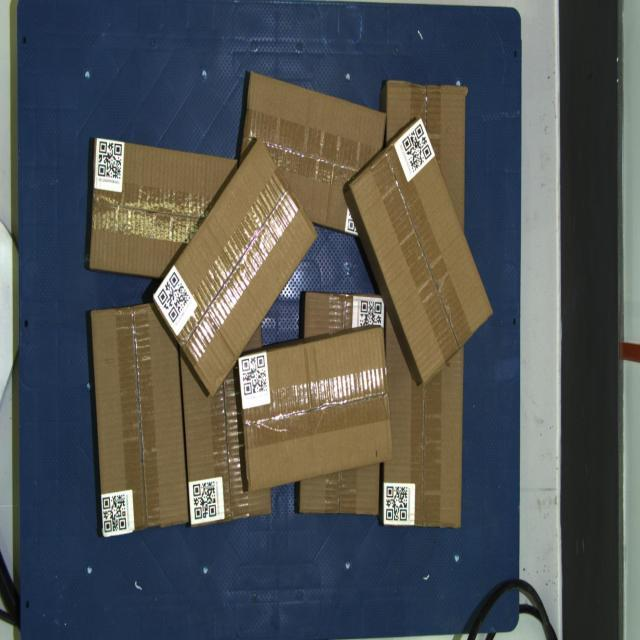box: (152, 136, 318, 397), (350, 116, 493, 384), (238, 326, 392, 492), (91, 303, 189, 536)
